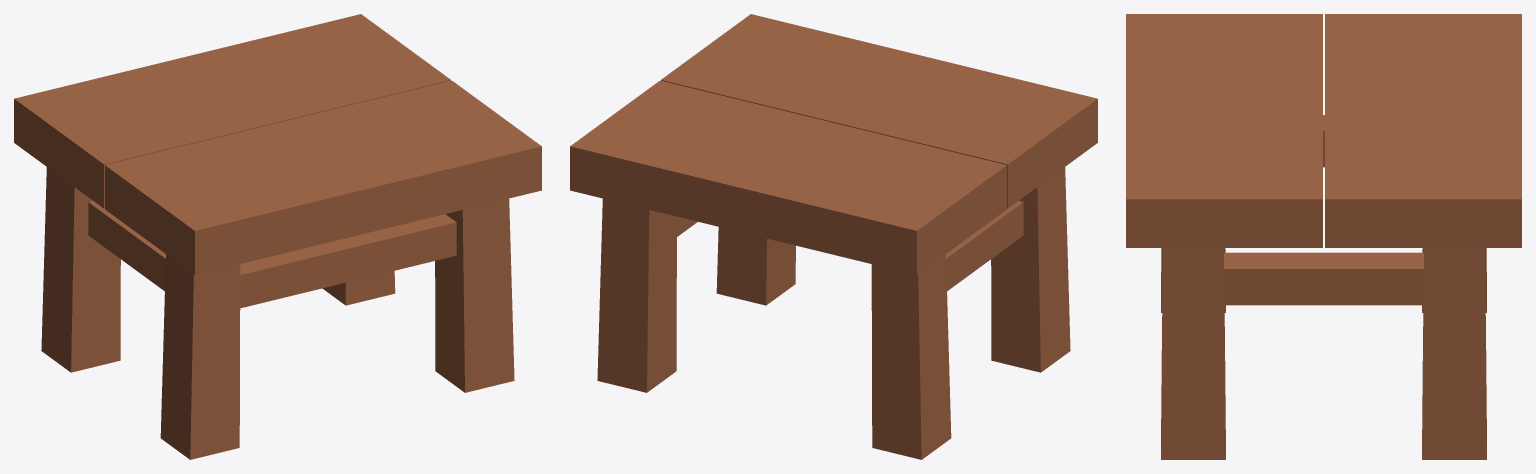
Rendered from table_med.obj.
The picture shows the model from 3 angles, left to right: view 1: azimuth 30°, elevation 25°; view 2: azimuth 150°, elevation 25°; view 3: azimuth 270°, elevation 25°; orthographic projection. The views are drawn at different scales.
Visible parts, largest first — view 1: table_med; view 2: table_med; view 3: table_med.
Part boxes in pixels (x1,y1,x2,y2): table_med: (14,14,541,459); table_med: (570,14,1097,459); table_med: (1126,14,1521,459).
Bounding box in the file's own units: 0.2951 × 0.1979 × 0.2663.
